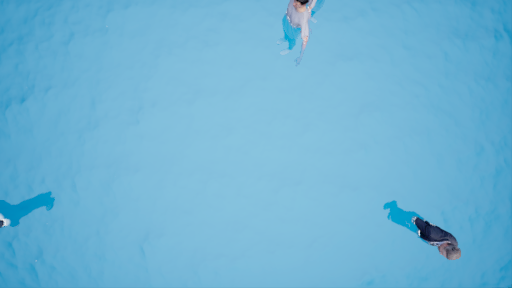person: (385, 195, 467, 268), (272, 1, 318, 62)
